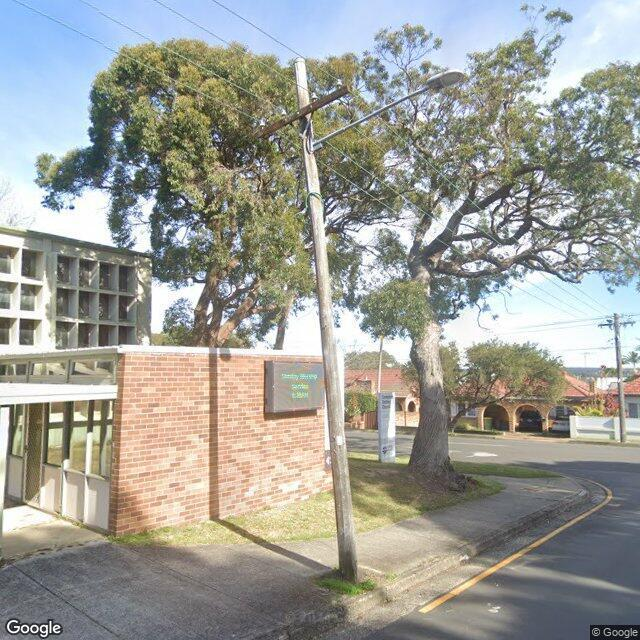crossarm: (253, 82, 351, 142), (598, 321, 636, 328)
streetlight: (311, 69, 468, 155)
timber-pole: (290, 59, 357, 578), (613, 312, 627, 443)
